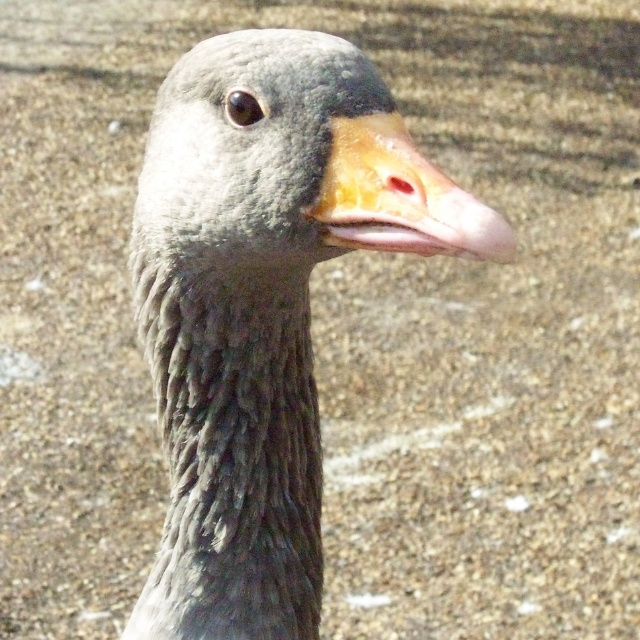Duck: (103, 14, 504, 640)
